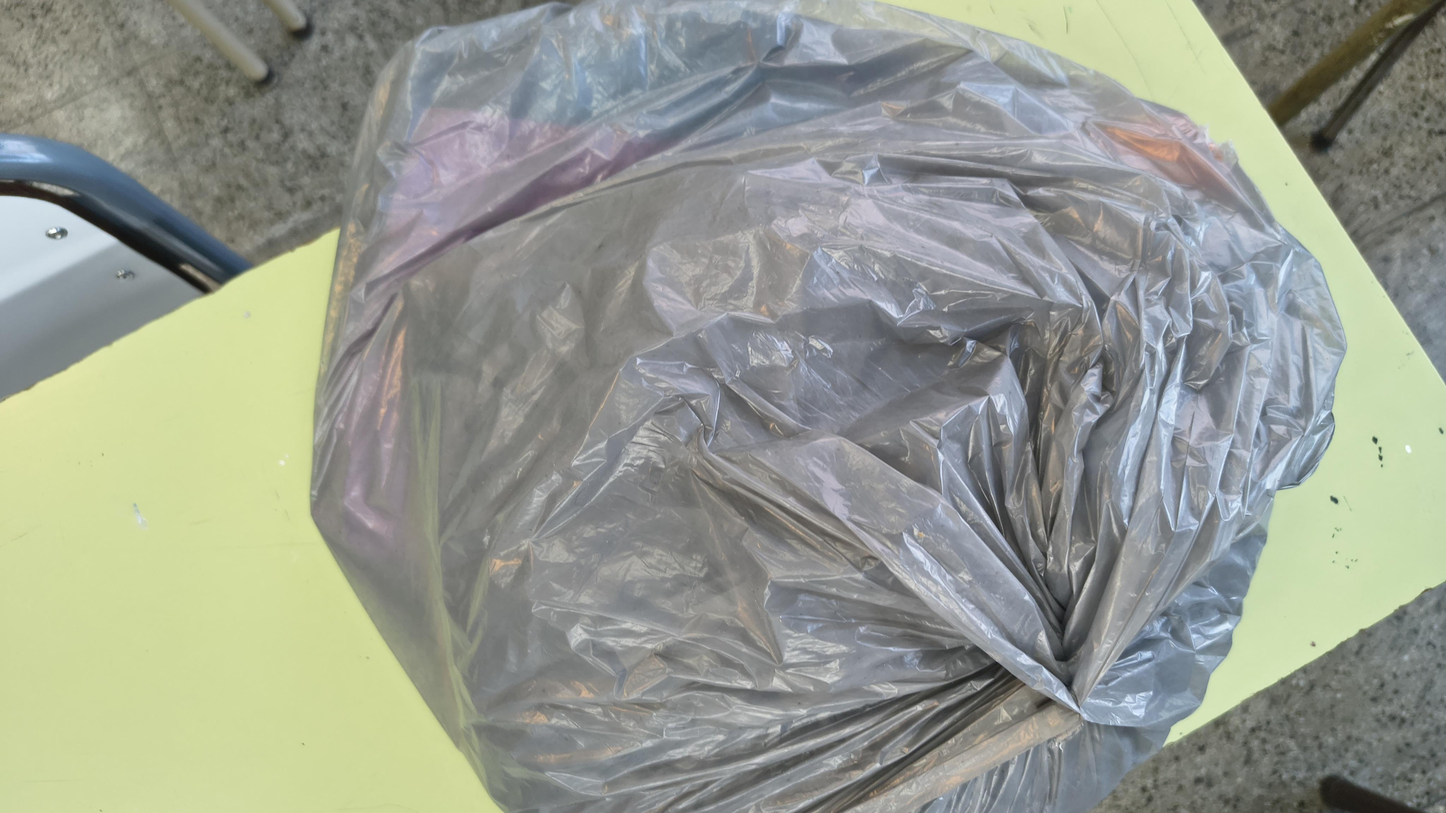Garbage: (6, 157, 1443, 756)
